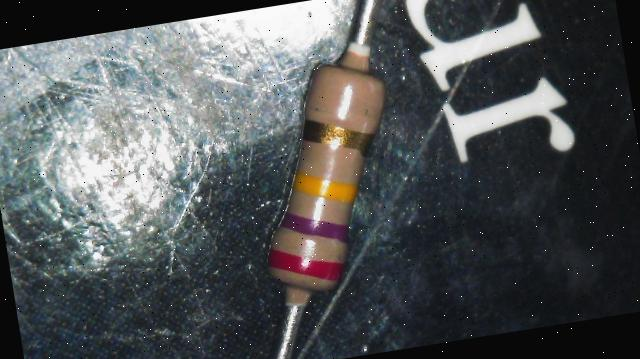gold: (300, 110, 376, 160)
red: (267, 235, 345, 290)
resistor: (232, 45, 405, 324)
violet: (278, 202, 350, 251)
yellow: (292, 164, 358, 210)
